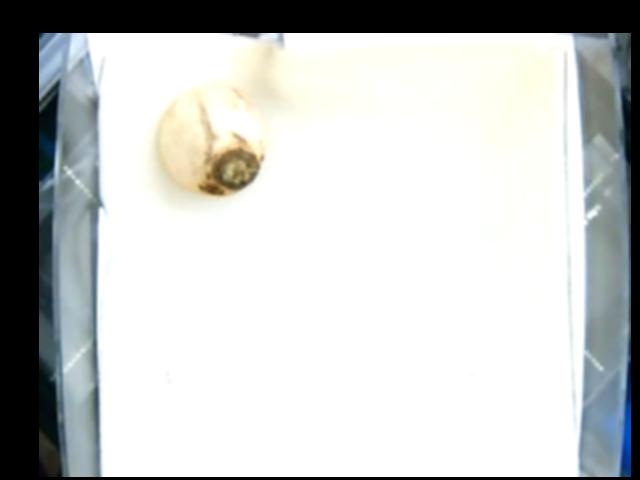Mooli: (155, 81, 265, 197)
